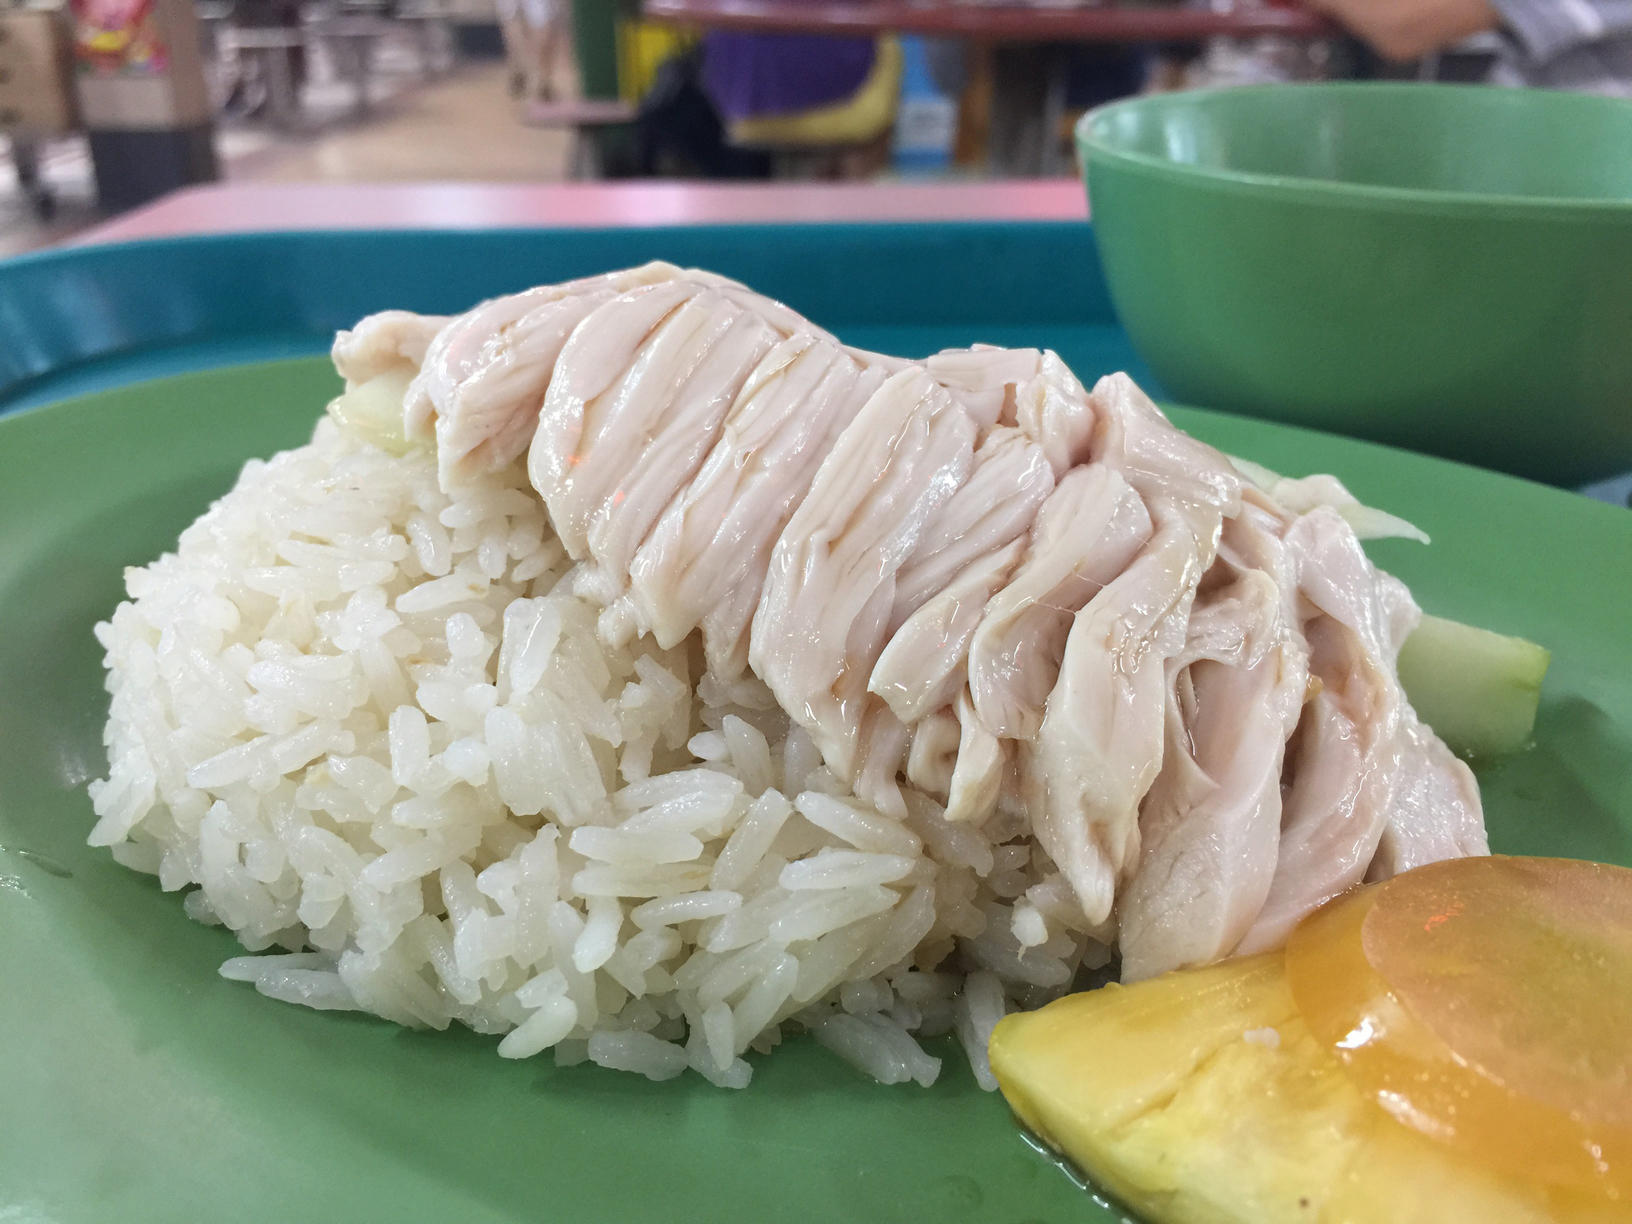Steamed Chicken Rice: (93, 222, 1455, 1005)
